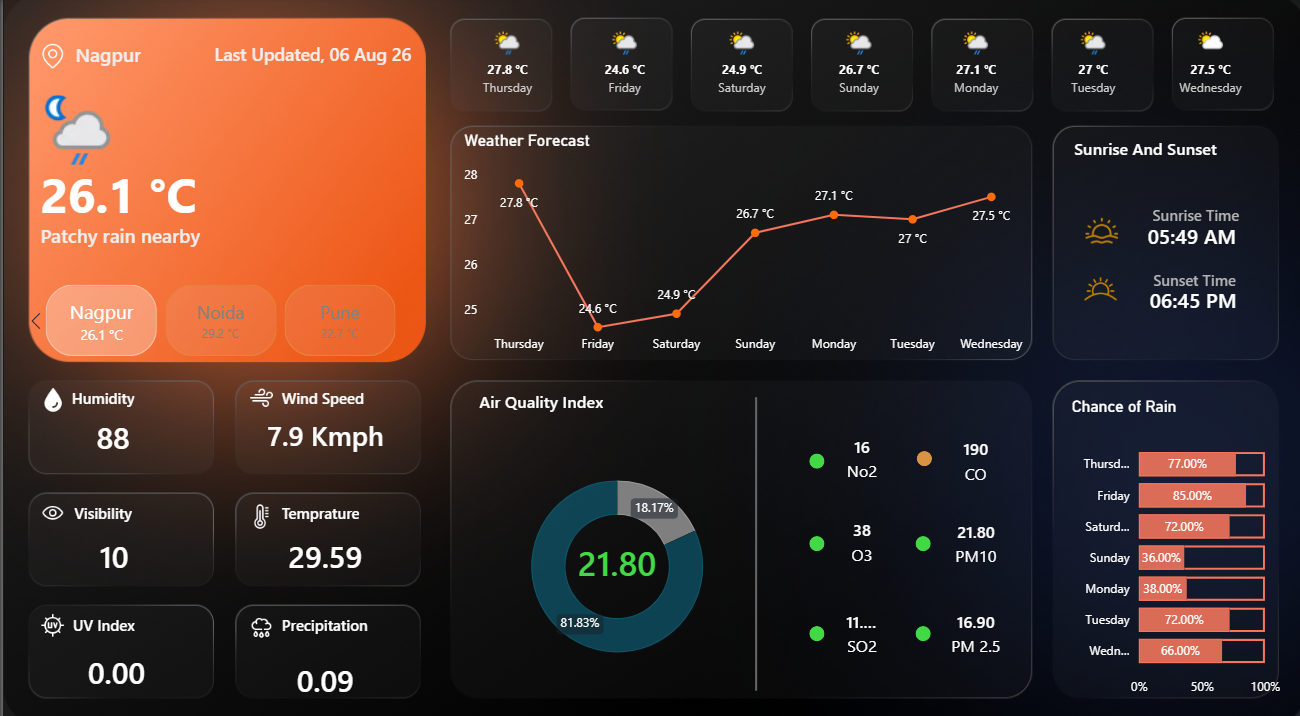

The page's visual inventory and layout, read from the dashboard file:
{"tool":"powerbi","page":{"name":"Page 1","canvas":[1280,720],"ordinal":0},"visuals":[{"type":"advancedSlicerVisual","fields":{"Values":["Location.location.name"],"Label":["_Measures.Curr_temp_C"]},"box":[16.9,278.7,395.7,80.8],"z":0},{"type":"shape","box":[37.4,153.2,177.3,82],"z":1000},{"type":"shape","box":[37.4,214.7,363.1,41],"z":2000},{"type":"shape","box":[71.2,37.4,73.6,41],"z":3000},{"type":"shape","box":[165.3,41,235.3,32.6],"z":4000},{"type":"image","box":[37.4,43.4,24.1,32.6],"z":5000},{"type":"cardVisual","fields":{"Data":["Min(Current.current.condition.icon)"]},"box":[1.2,10.9,143.6,172.5],"z":6000},{"type":"image","box":[36.8,384.1,24.5,24.5],"z":7000},{"type":"shape","box":[67.6,377.6,83.2,32.6],"z":8000},{"type":"shape","box":[273.9,377.6,83.2,32.6],"z":9000},{"type":"image","box":[241.3,381.2,24.1,25.3],"z":10000},{"type":"image","box":[37.4,494.6,24.1,25.3],"z":11000},{"type":"shape","box":[70,491,83.2,32.6],"z":12000},{"type":"image","box":[241.3,498.3,24.1,25.3],"z":13000},{"type":"shape","box":[273.9,491,83.2,32.6],"z":14000},{"type":"shape","box":[273.9,600.8,98.9,32.6],"z":15000},{"type":"shape","box":[68.8,600.8,83.2,32.6],"z":16000},{"type":"image","box":[241.3,606.8,24.1,25.3],"z":17000},{"type":"image","box":[37.4,604.4,24.1,25.3],"z":18000},{"type":"cardVisual","fields":{"Data":["Sum(Current.current.humidity)"]},"box":[54.3,394.5,108.6,72.4],"z":19000},{"type":"cardVisual","fields":{"Data":["_Measures.Wind_speed"]},"box":[216.7,393.8,199.4,71.8],"z":20000},{"type":"cardVisual","fields":{"Data":["Sum(Current.current.pressure_in)"]},"box":[236.5,511.5,159.3,72.4],"z":21000},{"type":"cardVisual","fields":{"Data":["Sum(Current.current.vis_km)"]},"box":[29,511.5,159.3,72.4],"z":22000},{"type":"cardVisual","fields":{"Data":["Sum(Current.current.uv)"]},"box":[31.9,625.8,159.3,72.4],"z":23000},{"type":"cardVisual","fields":{"Data":["Sum(Current.current.precip_mm)"]},"box":[236.5,633.4,159.3,72.4],"z":24000},{"type":"advancedSlicerVisual","fields":{"Values":["Forecast_Day.Day_name"]},"box":[436.7,24.1,810.7,91.7],"z":25000},{"type":"lineChart","title":"Weather Forecast","fields":{"Y":["Sum(Forecast_Day.forecast.forecastday.day.avgtemp_c)"],"Category":["Forecast_Day.Day_name"]},"box":[447.9,132.5,564.4,227],"z":26000},{"type":"shape","box":[1052,132.7,205.1,32.6],"z":27000},{"type":"shape","box":[1077.4,203.9,179.8,62.7],"z":28000},{"type":"shape","box":[1078.6,266.6,179.8,62.7],"z":29000},{"type":"shape","box":[1081,199.1,179.8,31.4],"z":30000},{"type":"shape","box":[1079.8,246.1,179.8,62.7],"z":31000},{"type":"image","box":[1041.2,214.7,73.6,31.4],"z":32000},{"type":"image","box":[1043.6,266.6,66.4,42.2],"z":33000},{"type":"hundredPercentStackedBarChart","title":"Chance of Rain","fields":{"Category":["Forecast_Day.Day_name"],"Y":["_Measures.Left_value_rain","Sum(Forecast_Day.forecast.forecastday.day.daily_chance_of_rain)"]},"box":[1044,393.8,214.7,302.8],"z":34000},{"type":"shape","box":[466.9,381.4,205.1,32.6],"z":35000},{"type":"cardVisual","fields":{"Data":["Sum(Current.current.air_quality.co)"]},"box":[910.4,414.7,89.2,83],"z":36000},{"type":"cardVisual","fields":{"Data":["Sum(Current.current.air_quality.pm10)"]},"box":[903.1,495.7,104.3,82.2],"z":37000},{"type":"cardVisual","fields":{"Data":["Sum(Current.current.air_quality.pm2_5)"]},"box":[896.9,584.1,116.6,83.4],"z":38000},{"type":"cardVisual","fields":{"Data":["Sum(Current.current.air_quality.no2)"]},"box":[798.8,412.3,89.6,83.4],"z":39000},{"type":"cardVisual","fields":{"Data":["Sum(Current.current.air_quality.o3)"]},"box":[798.8,494.5,89.2,83],"z":40000},{"type":"cardVisual","fields":{"Data":["Sum(Current.current.air_quality.so2)"]},"box":[798.8,584.1,89.2,83],"z":41000},{"type":"shape","box":[791.4,449.1,15,15],"z":42000},{"type":"shape","box":[791.4,618.4,15,15],"z":43000},{"type":"shape","box":[791.4,530.1,15,15],"z":44000},{"type":"shape","box":[896.9,446.6,15,15],"z":45000},{"type":"shape","box":[895.7,530.1,15,15],"z":46000},{"type":"shape","box":[895.7,618.4,15,15],"z":47000},{"type":"shape","box":[636.8,393.9,204.9,288.3],"z":48000},{"type":"cardVisual","fields":{"Data":["Sum(Current.current.air_quality.pm10)"]},"box":[509.2,508,187.7,93.3],"z":49000},{"type":"donutChart","title":"PM10 Value","fields":{"Y":["Sum(Current.current.air_quality.pm10)","Current.Left PM10"]},"box":[458.9,429.5,288.3,261.4],"z":50000}]}

Visuals, with their boxes in screenshot pixels (x1, y1, x2, y2), scaled from the page's 1280x720 canvas onto the 1300x716 screenshot:
advancedSlicerVisual - Location.location.name x _Measures.Curr_temp_C: <bbox>17, 277, 419, 358</bbox>
shape: <bbox>38, 152, 218, 234</bbox>
shape: <bbox>38, 214, 407, 254</bbox>
shape: <bbox>72, 37, 147, 78</bbox>
shape: <bbox>168, 41, 407, 73</bbox>
image: <bbox>38, 43, 62, 76</bbox>
cardVisual - Min(Current.current.condition.icon): <bbox>1, 11, 147, 182</bbox>
image: <bbox>37, 382, 62, 406</bbox>
shape: <bbox>69, 376, 153, 408</bbox>
shape: <bbox>278, 376, 363, 408</bbox>
image: <bbox>245, 379, 270, 404</bbox>
image: <bbox>38, 492, 62, 517</bbox>
shape: <bbox>71, 488, 156, 521</bbox>
image: <bbox>245, 496, 270, 521</bbox>
shape: <bbox>278, 488, 363, 521</bbox>
shape: <bbox>278, 597, 379, 630</bbox>
shape: <bbox>70, 597, 154, 630</bbox>
image: <bbox>245, 603, 270, 629</bbox>
image: <bbox>38, 601, 62, 626</bbox>
cardVisual - Sum(Current.current.humidity): <bbox>55, 392, 165, 464</bbox>
cardVisual - _Measures.Wind_speed: <bbox>220, 392, 423, 463</bbox>
cardVisual - Sum(Current.current.pressure_in): <bbox>240, 509, 402, 581</bbox>
cardVisual - Sum(Current.current.vis_km): <bbox>29, 509, 191, 581</bbox>
cardVisual - Sum(Current.current.uv): <bbox>32, 622, 194, 694</bbox>
cardVisual - Sum(Current.current.precip_mm): <bbox>240, 630, 402, 702</bbox>
advancedSlicerVisual - Forecast_Day.Day_name: <bbox>444, 24, 1267, 115</bbox>
"Weather Forecast" lineChart: <bbox>455, 132, 1028, 358</bbox>
shape: <bbox>1068, 132, 1277, 164</bbox>
shape: <bbox>1094, 203, 1277, 265</bbox>
shape: <bbox>1095, 265, 1278, 327</bbox>
shape: <bbox>1098, 198, 1280, 229</bbox>
shape: <bbox>1097, 245, 1279, 307</bbox>
image: <bbox>1057, 214, 1132, 245</bbox>
image: <bbox>1060, 265, 1127, 307</bbox>
"Chance of Rain" hundredPercentStackedBarChart: <bbox>1060, 392, 1278, 693</bbox>
shape: <bbox>474, 379, 682, 412</bbox>
cardVisual - Sum(Current.current.air_quality.co): <bbox>925, 412, 1015, 495</bbox>
cardVisual - Sum(Current.current.air_quality.pm10): <bbox>917, 493, 1023, 575</bbox>
cardVisual - Sum(Current.current.air_quality.pm2_5): <bbox>911, 581, 1029, 664</bbox>
cardVisual - Sum(Current.current.air_quality.no2): <bbox>811, 410, 902, 493</bbox>
cardVisual - Sum(Current.current.air_quality.o3): <bbox>811, 492, 902, 574</bbox>
cardVisual - Sum(Current.current.air_quality.so2): <bbox>811, 581, 902, 663</bbox>
shape: <bbox>804, 447, 819, 462</bbox>
shape: <bbox>804, 615, 819, 630</bbox>
shape: <bbox>804, 527, 819, 542</bbox>
shape: <bbox>911, 444, 926, 459</bbox>
shape: <bbox>910, 527, 925, 542</bbox>
shape: <bbox>910, 615, 925, 630</bbox>
shape: <bbox>647, 392, 855, 678</bbox>
cardVisual - Sum(Current.current.air_quality.pm10): <bbox>517, 505, 708, 598</bbox>
"PM10 Value" donutChart: <bbox>466, 427, 759, 687</bbox>
